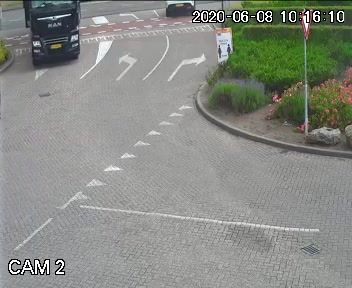car: (20, 0, 91, 67), (159, 0, 203, 22)
